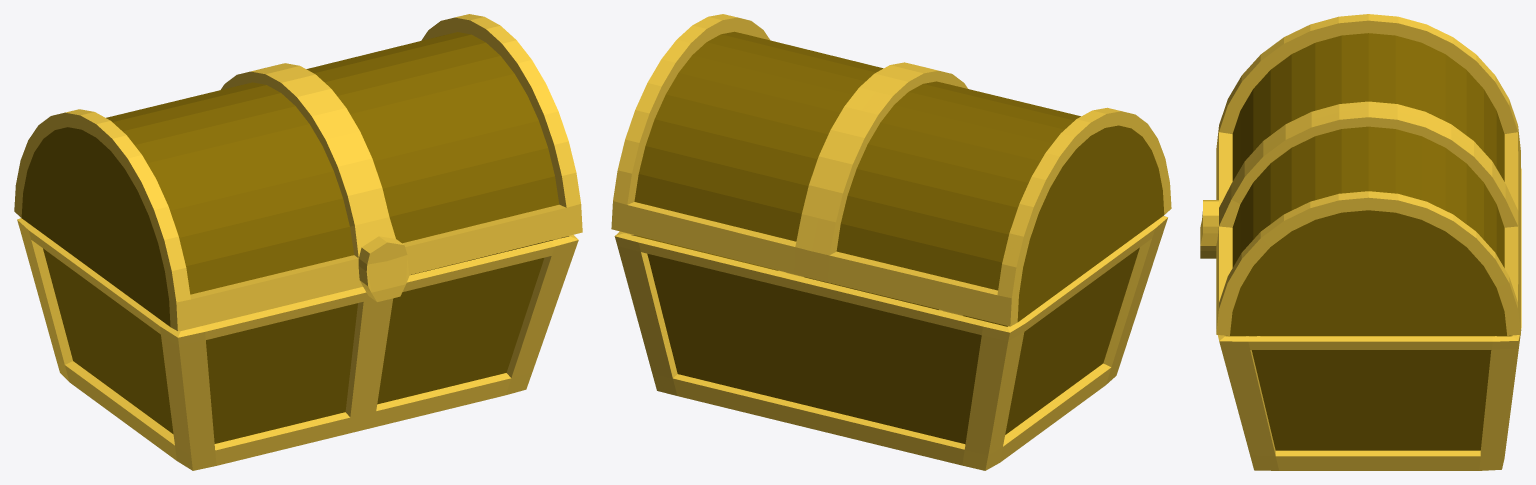
File: goal.fbx
3 renders of one model, left to right at view 1: azimuth 30°, elevation 25°; view 2: azimuth 150°, elevation 25°; view 3: azimuth 270°, elevation 25°, orthographic. The views are drawn at different scales.
Visible parts, largest first — view 1: Cylinder, Cube; view 2: Cylinder, Cube; view 3: Cylinder, Cube.
Boxes of the visible parts, x1,y1,x2,y2 form: Cylinder: [14, 14, 582, 330]; Cube: [17, 218, 578, 470]; Cylinder: [611, 14, 1171, 326]; Cube: [614, 216, 1167, 470]; Cylinder: [1200, 14, 1520, 335]; Cube: [1218, 168, 1521, 470].
Bounding box in the file's own units: 371 × 271 × 273.
